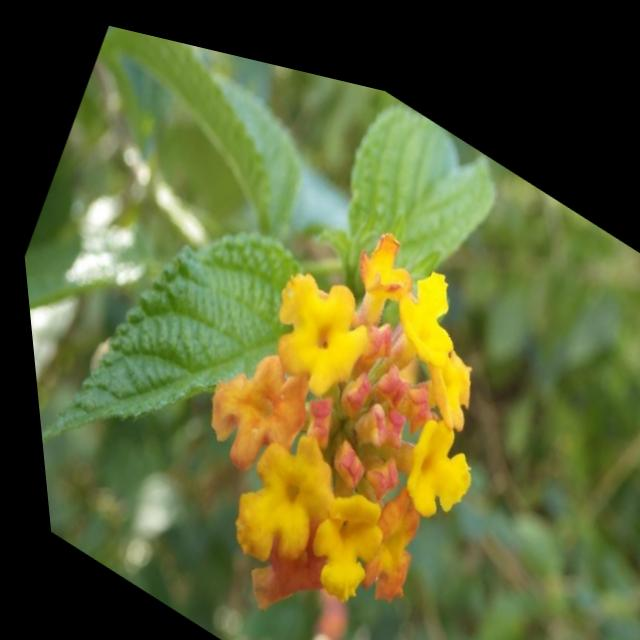Flower: (120, 115, 556, 640)
